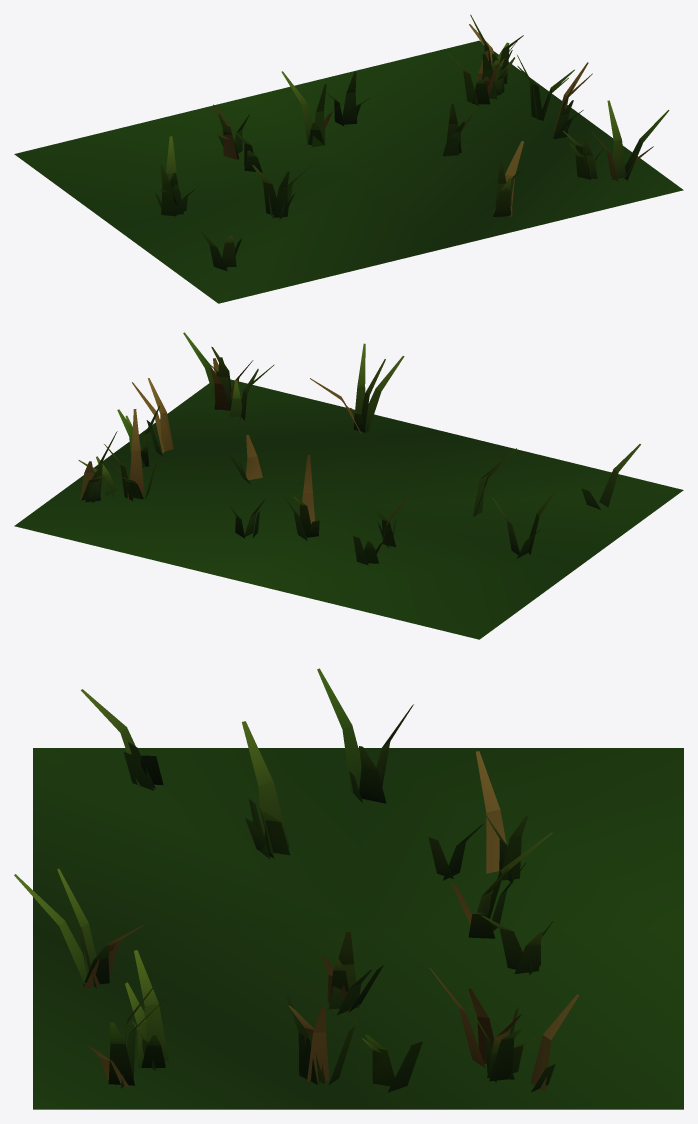
Rendered from fm_turf_lod1.glb.
The picture shows the model from 3 angles, top to bottom: view 1: azimuth 30°, elevation 25°; view 2: azimuth 150°, elevation 25°; view 3: azimuth 270°, elevation 25°; orthographic projection. The views are drawn at different scales.
Parts seen in each view (by area): view 1: fm_turf_lod1; view 2: fm_turf_lod1; view 3: fm_turf_lod1.
Part boxes in pixels (bbox=[...]): fm_turf_lod1: bbox=[14, 14, 683, 303]; fm_turf_lod1: bbox=[14, 332, 683, 639]; fm_turf_lod1: bbox=[14, 668, 683, 1109].
Size of the model in its own units: 2.37 by 0.3496 by 1.8.
